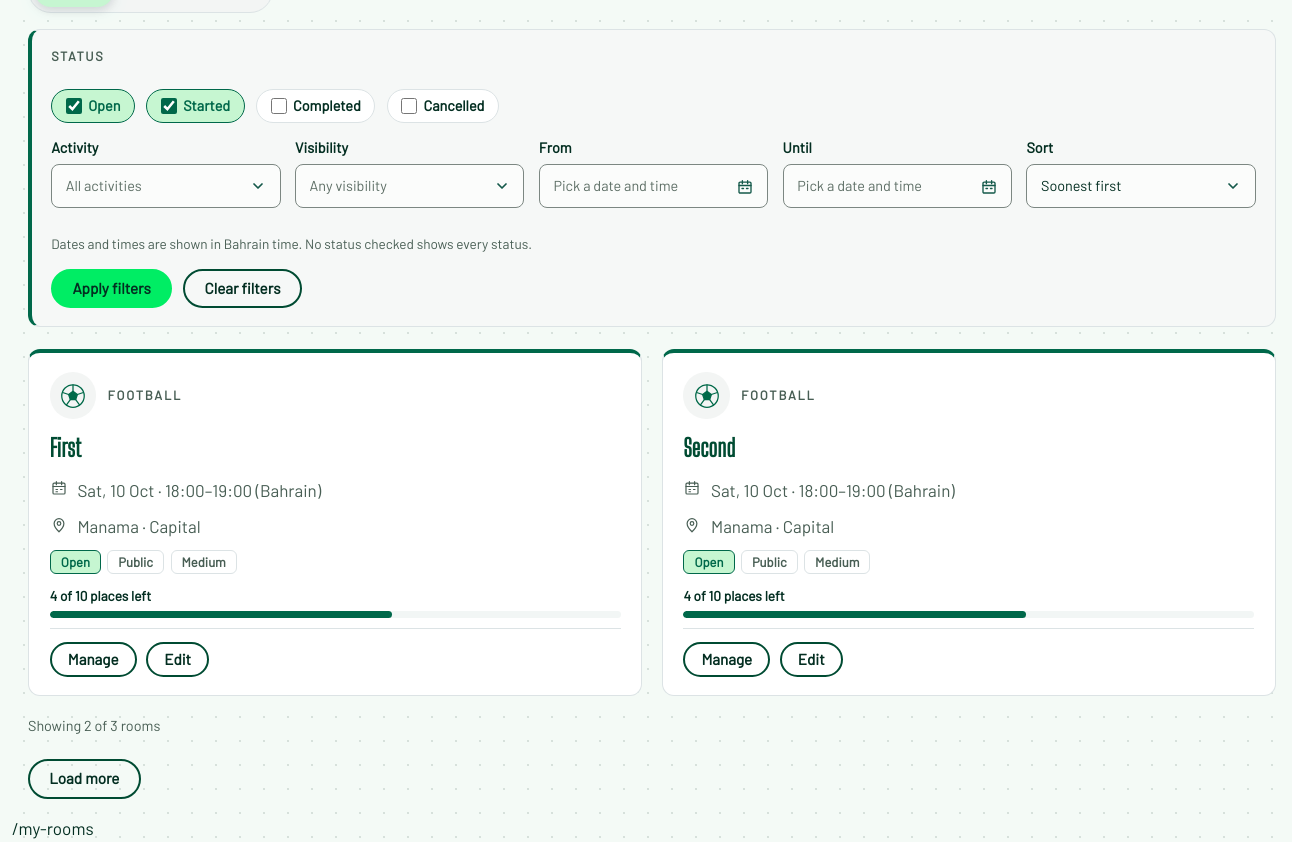
it: My rooms page › appends the next page without repeating a room and then hides the button
(page scrolled)
Expected: the heading "First" is shown, [50, 433, 81, 462]
What coordinates should you click on to do the following:
click the button "Load more"
I would click on:
 (84, 779)
Its box is [28, 759, 141, 799].
(page scrolled)
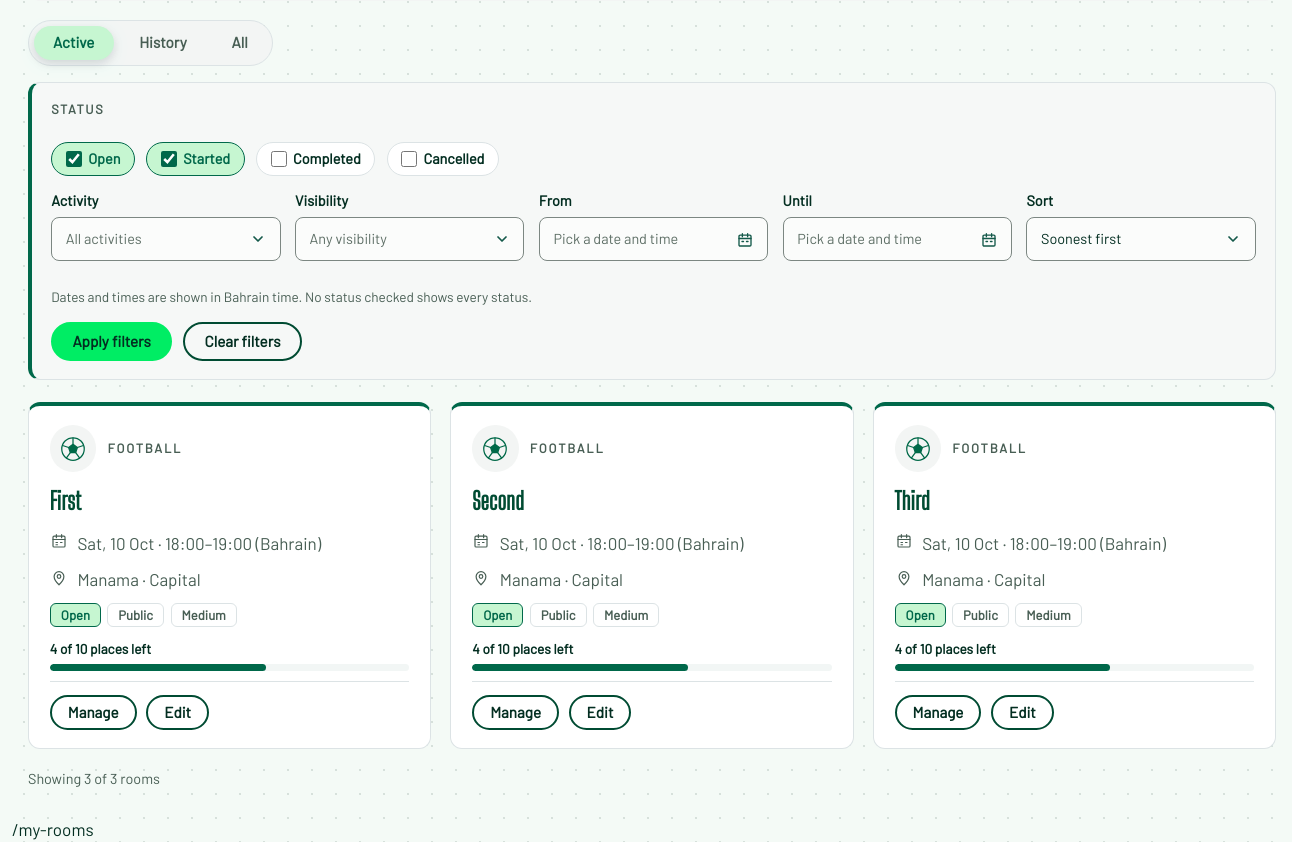
Now the heading "Third" is shown, box [895, 486, 930, 515]
Now the button "Load more" is gone
